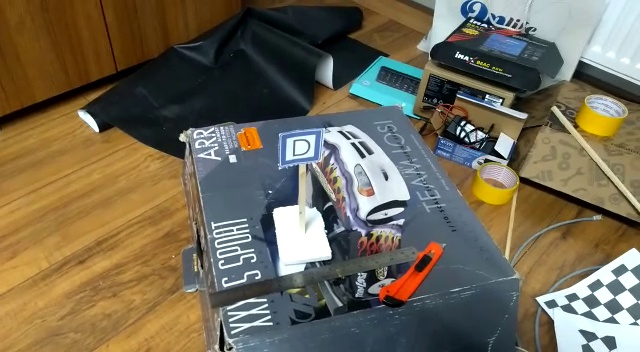durak: (276, 130, 324, 167)
